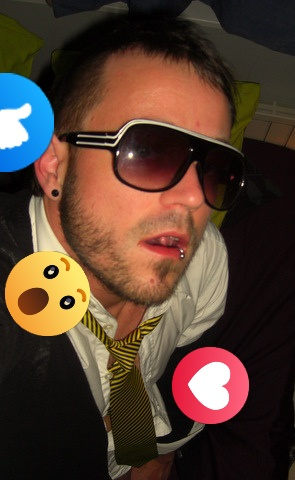like: (0, 73, 54, 172)
love: (172, 347, 249, 424)
wow: (5, 251, 90, 336)
